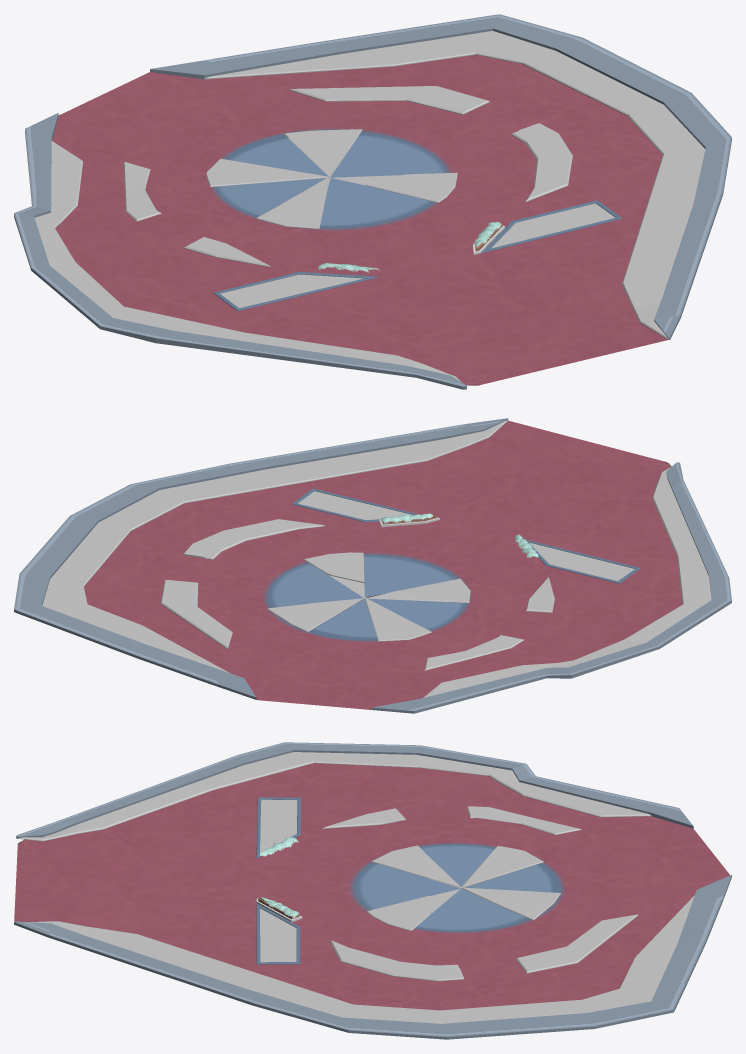
The model's file is Jardin_Mairie.fbx.
3 renders of one model, top to bottom at view 1: azimuth 30°, elevation 25°; view 2: azimuth 150°, elevation 25°; view 3: azimuth 270°, elevation 25°, orthographic. The views are drawn at different scales.
Parts seen in each view (by area): view 1: PisteFinale.001, Plane.027, Plane.019, Plane.017; view 2: PisteFinale.001, Plane.027, Plane.019, Plane.017; view 3: PisteFinale.001, Plane.027, Plane.017, Plane.019.
Part boxes in pixels (x1,y1,x2,y2): PisteFinale.001: (14,14,731,389); Plane.027: (220,203,615,308); Plane.019: (213,272,378,311); Plane.017: (481,200,622,252); PisteFinale.001: (14,418,731,713); Plane.027: (298,491,634,581); Plane.019: (526,539,640,583); Plane.017: (292,488,417,522); PisteFinale.001: (14,742,731,1039); Plane.027: (260,799,297,962); Plane.017: (256,903,300,964); Plane.019: (256,797,300,858).
Bounding box in the file's own units: 6702 × 99.8 × 6907.
